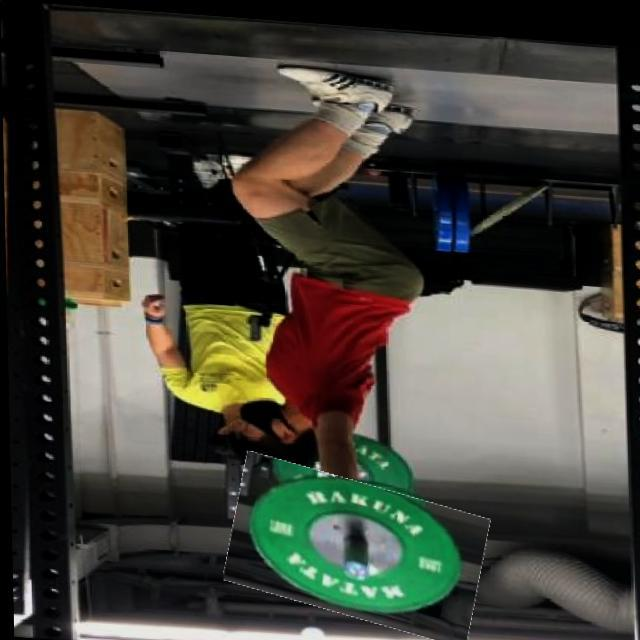barbell: (225, 459, 486, 632)
